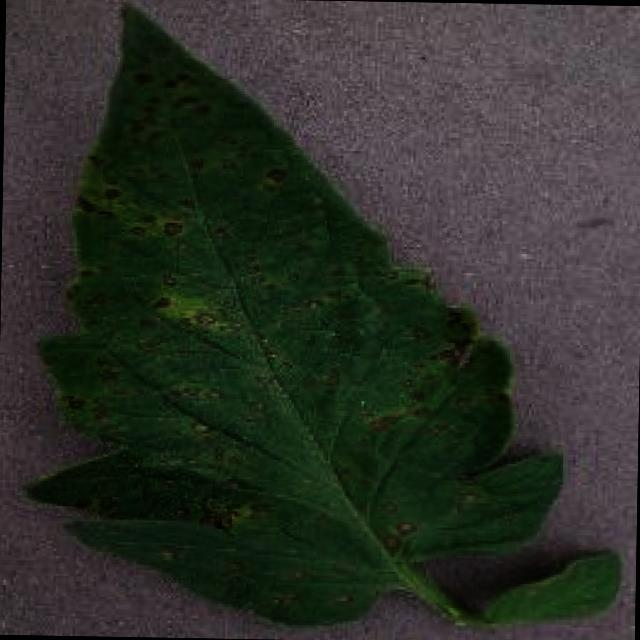Tomato Septoria spot leaf: (24, 3, 572, 631)
